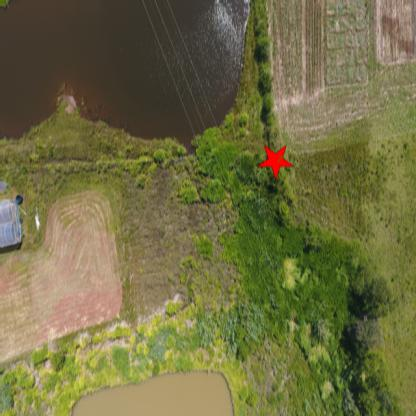T: (275, 153, 286, 168)
star: (257, 141, 295, 181)
